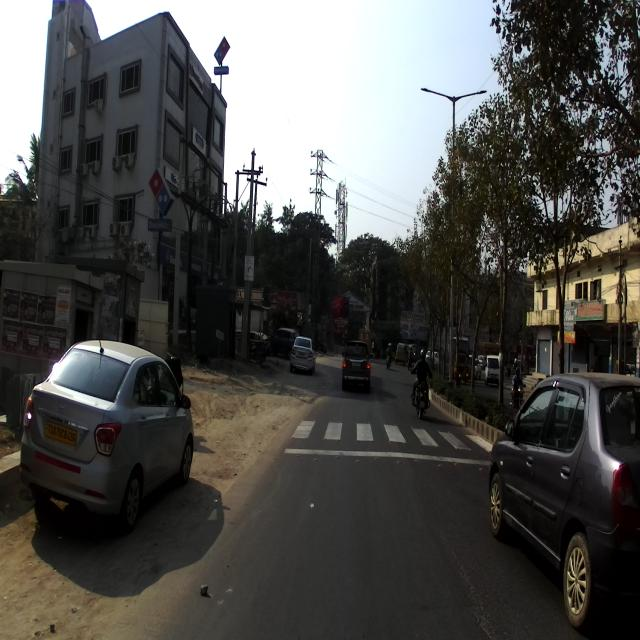car ahead at: (488, 374, 640, 618), (21, 335, 196, 532)
electric pole ahead at: (233, 141, 263, 377)
zebra crossing ahead at: (291, 410, 485, 453)
